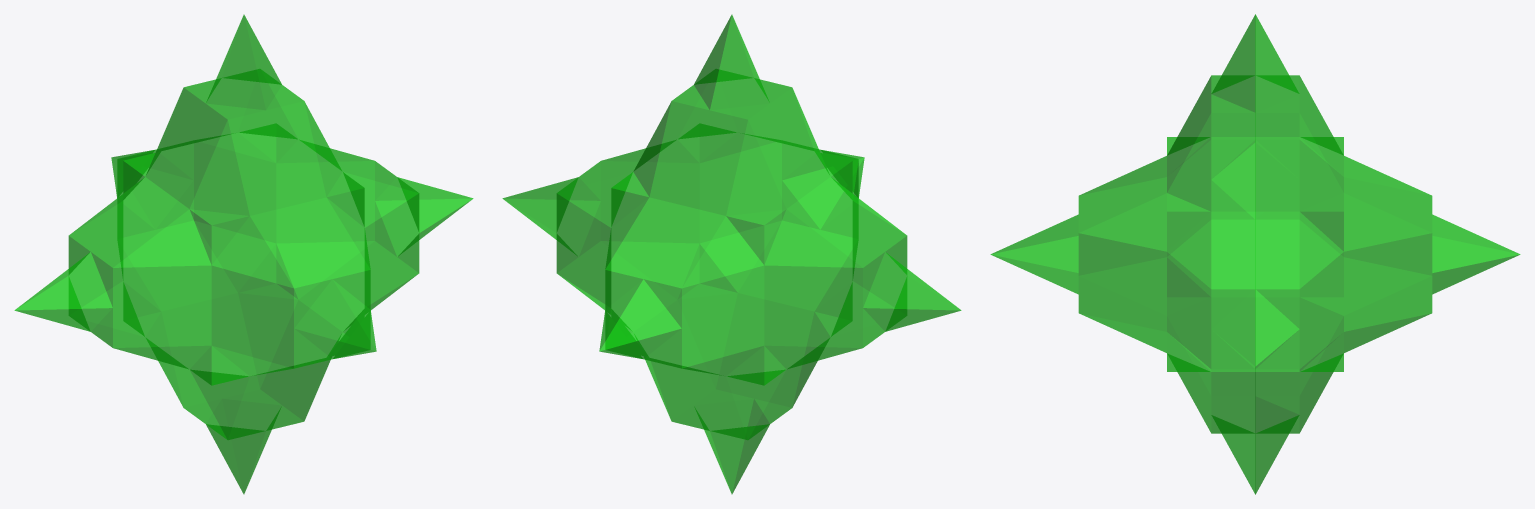
Rendered from sparkle.obj.
3 views of the same model, side by side, from view 1: azimuth 30°, elevation 25°; view 2: azimuth 150°, elevation 25°; view 3: azimuth 270°, elevation 25° (orthographic).
Visible parts, largest first — view 1: Cube; view 2: Cube; view 3: Cube.
Boxes of the visible parts, left/top/right/bottom form: Cube: left=14, top=14, right=473, bottom=494; Cube: left=502, top=14, right=961, bottom=494; Cube: left=990, top=14, right=1520, bottom=494.
Bounding box in the file's own units: 1.2 × 1.2 × 1.2.
